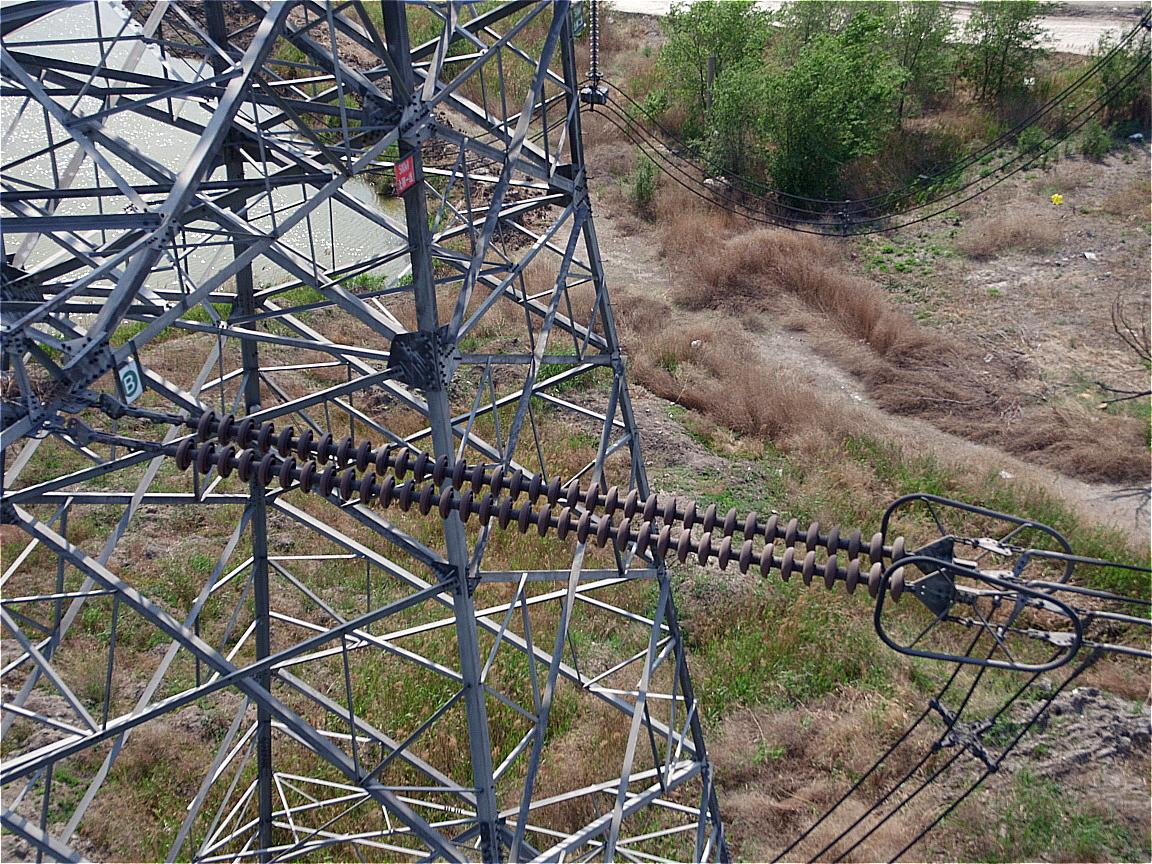insultor1: (179, 411, 909, 600)
